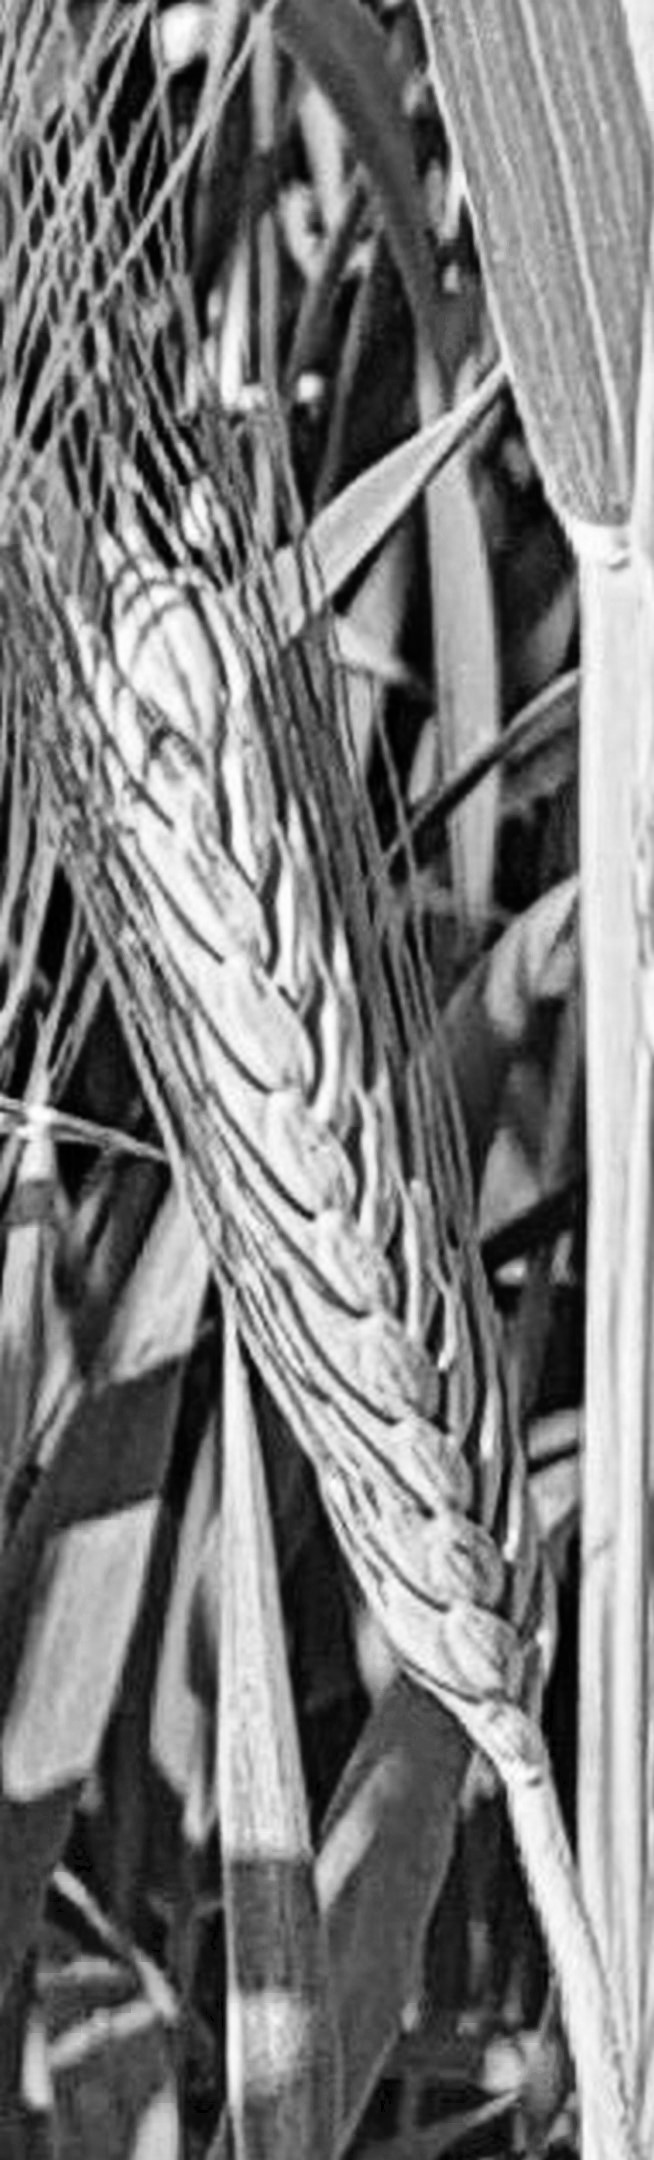Healthy Wheat: (56, 568, 569, 1675)
